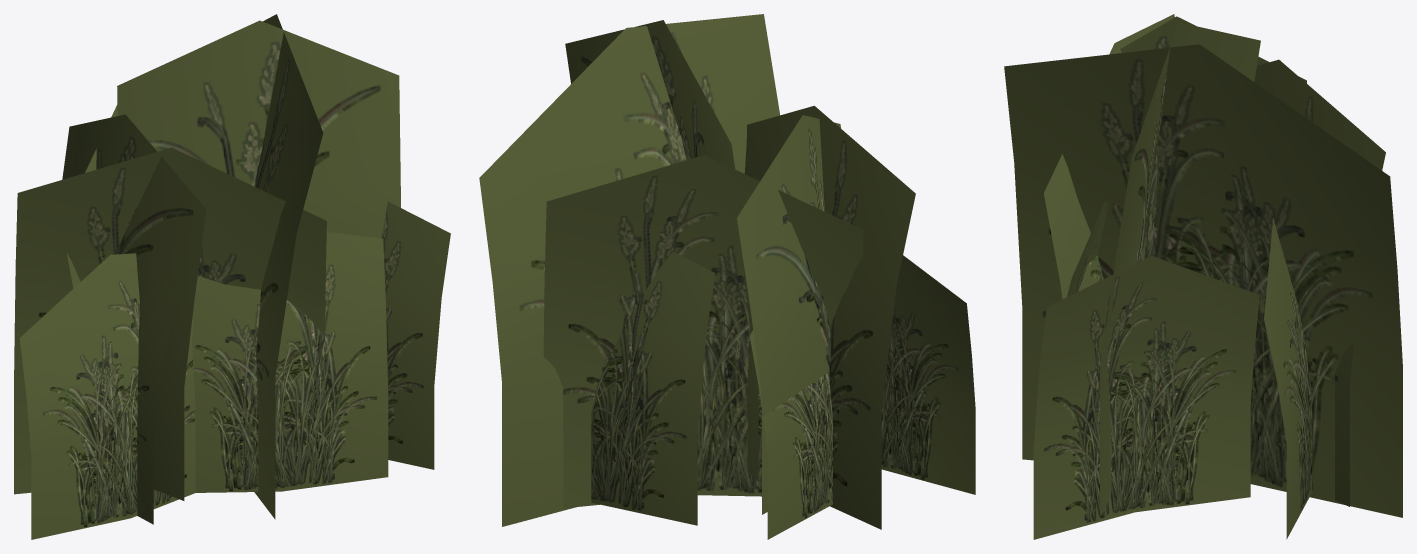
File: SM_Grass_small_clump_A.fbx
3 views of the same model, side by side, from view 1: azimuth 30°, elevation 25°; view 2: azimuth 150°, elevation 25°; view 3: azimuth 270°, elevation 25° (orthographic). The views are drawn at different scales.
Visible parts, largest first — view 1: SM_Grass_small_clump_A; view 2: SM_Grass_small_clump_A; view 3: SM_Grass_small_clump_A.
Part boxes in pixels (box(x1,y1,x2,y2)): SM_Grass_small_clump_A: box(14, 14, 450, 539); SM_Grass_small_clump_A: box(479, 14, 975, 539); SM_Grass_small_clump_A: box(1004, 14, 1402, 539).
Bounding box in the file's own units: 55.42 × 57.49 × 44.48.
